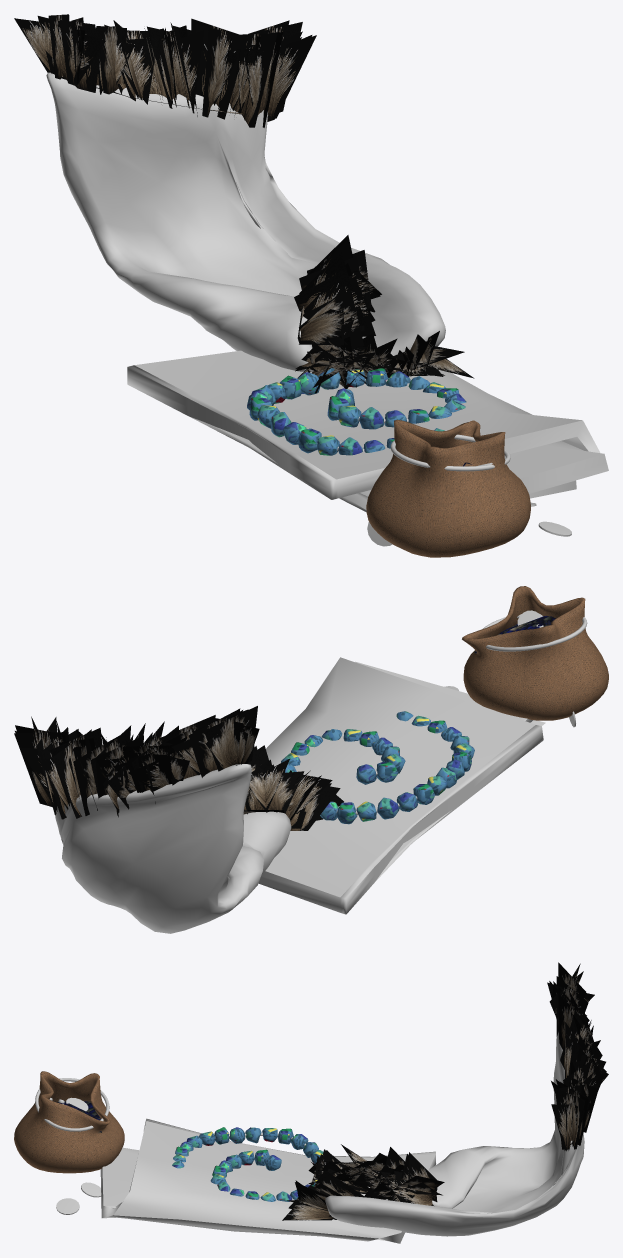
File: clothfortexturing.obj
3 renders of one model, top to bottom at view 1: azimuth 30°, elevation 25°; view 2: azimuth 150°, elevation 25°; view 3: azimuth 270°, elevation 25°, orthographic. The views are drawn at different scales.
Visible parts, largest first — view 1: Plane.003, Plane.006, Plane.005, Cube, Plane.004, Cube.002, BézierCircle; view 2: Plane.006, Plane.003, Plane.005, Cube, Cube.002, Plane.004, BézierCircle; view 3: Plane.006, Plane.003, Cube, Plane.005, Plane.004, Cube.002, BézierCircle.
Boxes of the visible parts, x1,y1,x2,y2 form: Plane.003: (46, 72, 445, 371); Plane.006: (127, 350, 608, 512); Plane.005: (14, 14, 316, 127); Cube: (366, 419, 530, 557); Plane.004: (294, 235, 474, 392); Cube.002: (247, 368, 466, 455); BézierCircle: (390, 434, 510, 471); Plane.006: (258, 657, 545, 914); Plane.003: (55, 764, 291, 933); Plane.005: (14, 706, 259, 819); Cube: (462, 586, 608, 720); Cube.002: (281, 711, 474, 824); Plane.004: (243, 745, 343, 830); BézierCircle: (483, 614, 587, 651); Plane.006: (100, 1118, 436, 1243); Plane.003: (325, 1032, 584, 1236); Cube: (14, 1071, 124, 1173); Plane.005: (547, 962, 608, 1151); Plane.004: (282, 1144, 444, 1220); Cube.002: (172, 1127, 323, 1201); BézierCircle: (35, 1078, 109, 1131).
Bounding box in the file's own units: 0.3733 × 0.379 × 0.9359.
